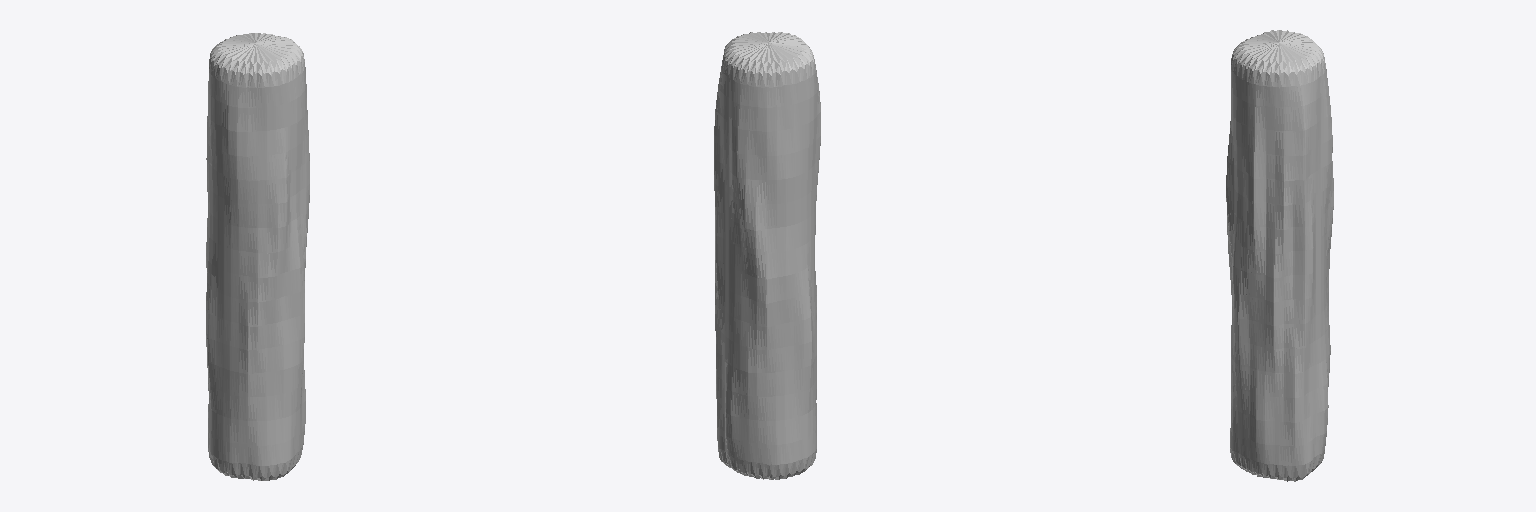
File: torch.obj
The picture shows the model from 3 angles: view 1: azimuth 30°, elevation 25°; view 2: azimuth 150°, elevation 25°; view 3: azimuth 270°, elevation 25°; orthographic projection.
Visible parts, largest first — view 1: torch; view 2: torch; view 3: torch.
Part boxes in pixels (left/top/right/bottom): torch: left=206, top=33, right=309, bottom=480; torch: left=714, top=32, right=820, bottom=479; torch: left=1226, top=30, right=1333, bottom=481.
Bounding box in the file's own units: 0.227 × 1 × 0.2295.